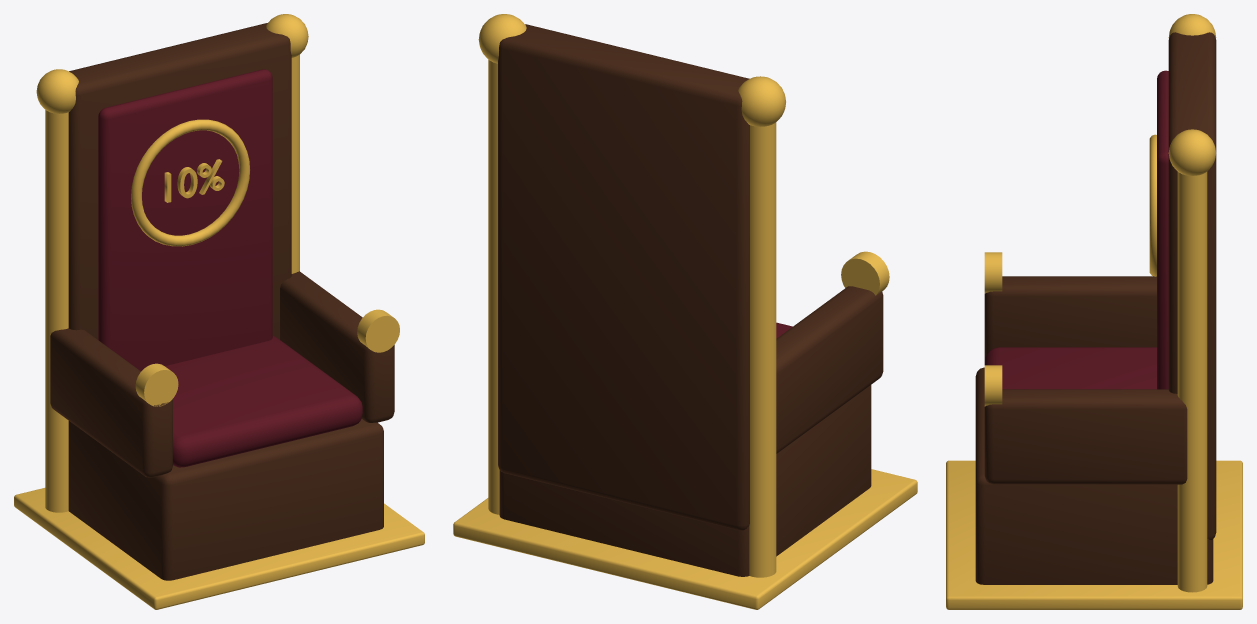
The model's file is trono.glb.
3 renders of one model, left to right at view 1: azimuth 30°, elevation 25°; view 2: azimuth 150°, elevation 25°; view 3: azimuth 270°, elevation 25°, orthographic. The views are drawn at different scales.
Parts seen in each view (by area): view 1: Trono; view 2: Trono; view 3: Trono.
Part boxes in pixels (<box>): Trono: <box>14,14,424,609</box>; Trono: <box>453,14,917,609</box>; Trono: <box>946,14,1242,609</box>.
Bounding box in the file's own units: 1.1 × 1.74 × 1.
